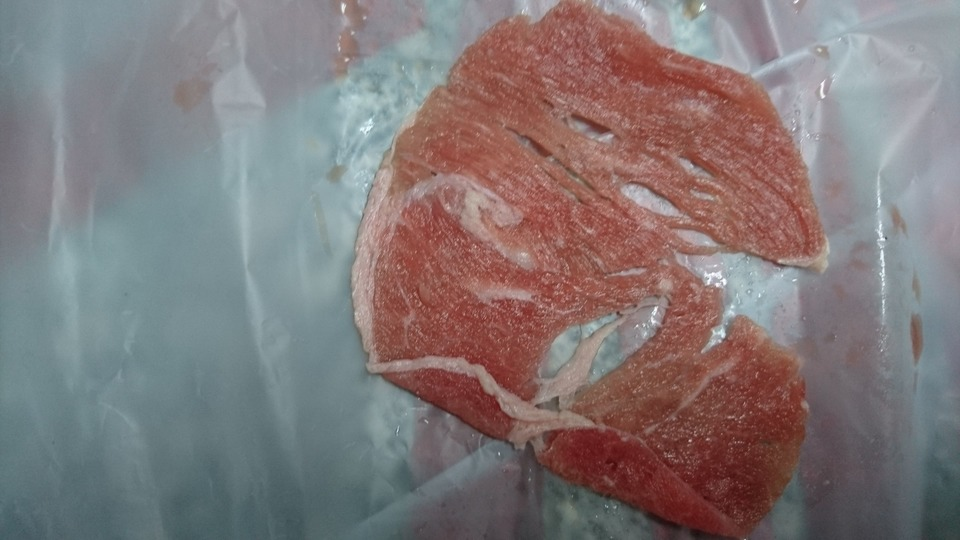restructured meat: (325, 8, 839, 532)
